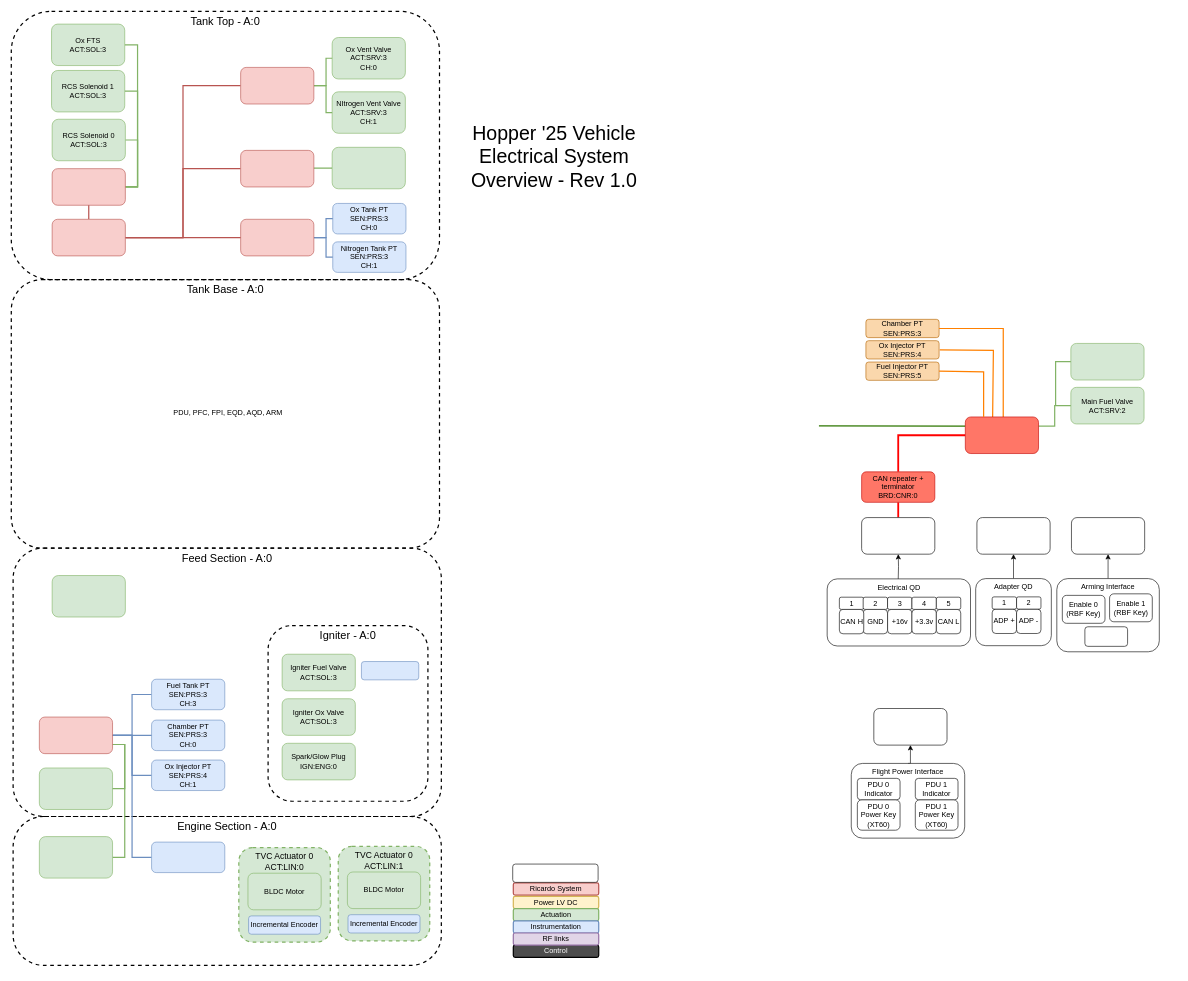
Image size: 1188x981. Some labels were removed from this diagram. The centre of each missing label's shape, as x and y in pixels:
Adapter QD IFC:AQD:0: point 1013,535
Arming IFC:ARM:0: point 1108,535
COTS POWER: point 1106,636
Electrical QD IFC:EQD:0: point 898,535
Engine Controller Board BRD:ECU:0 ADDR: point 76,735
Engine Controller Board BRD:ENG:0 10: point 1002,435
Flight Power Interface IFC:FPI:0: point 910,726
Fuel Injector PT SEN:PRS:5 CH:2: point 188,857
Fuel Vent Valve ACT:SRV:3 CH:0: point 368,168
High Current Actuator BRD:HPA:0 ADDR: point 88,186
Igniter PT SEN:PRS:3: point 390,670
Legend: point 555,872
Main Fuel Valve ACT:SRV:2 CH:1: point 76,857
Main Ox Valve ACT:SRV:3: point 1107,361
Main Ox Valve ACT:SRV:3 CH:0: point 76,788
Ox Main Isolator ACT:SOL:3: point 88,596
Sensor Board BRD:SEN:0 ADDR: point 277,237
Servo Board BRD:ACT:0 ADDR: point 277,85
Servo Board BRD:ACT:1 ADDR: point 277,168
V-Reg Board BRD:BUK:0: point 88,237
